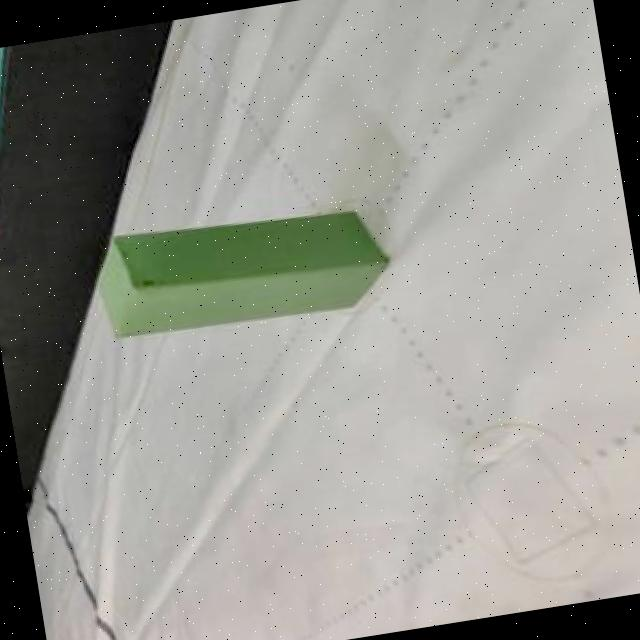greenbox: (88, 190, 396, 343)
